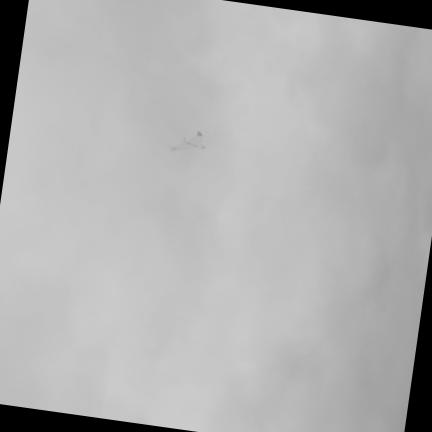Shahed: (169, 130, 204, 151)
